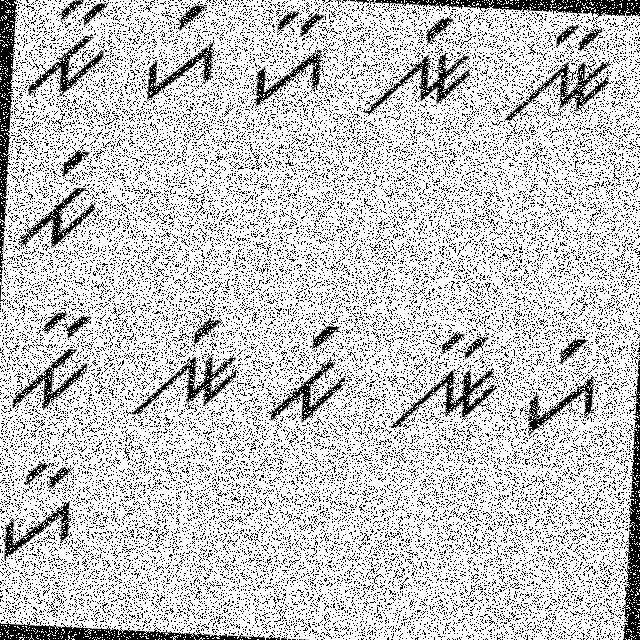han: (0, 455, 85, 571), (247, 4, 335, 114)
hang: (517, 327, 604, 442), (139, 1, 219, 107)
mban: (9, 306, 103, 416), (26, 0, 115, 103)
mbang: (264, 316, 358, 433), (18, 142, 108, 258)
ndan: (384, 319, 502, 438), (502, 18, 617, 138)
ndang: (354, 10, 478, 126), (131, 308, 241, 426)
